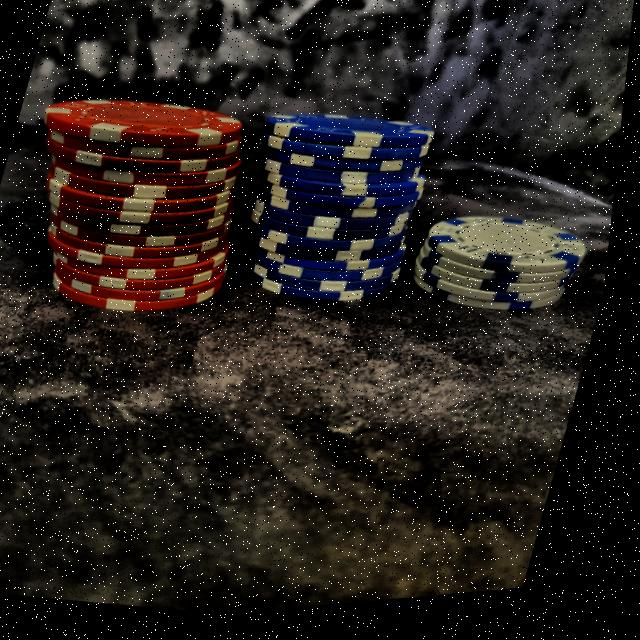Chip: (0, 50, 290, 359), (213, 82, 457, 341), (396, 181, 604, 352)
